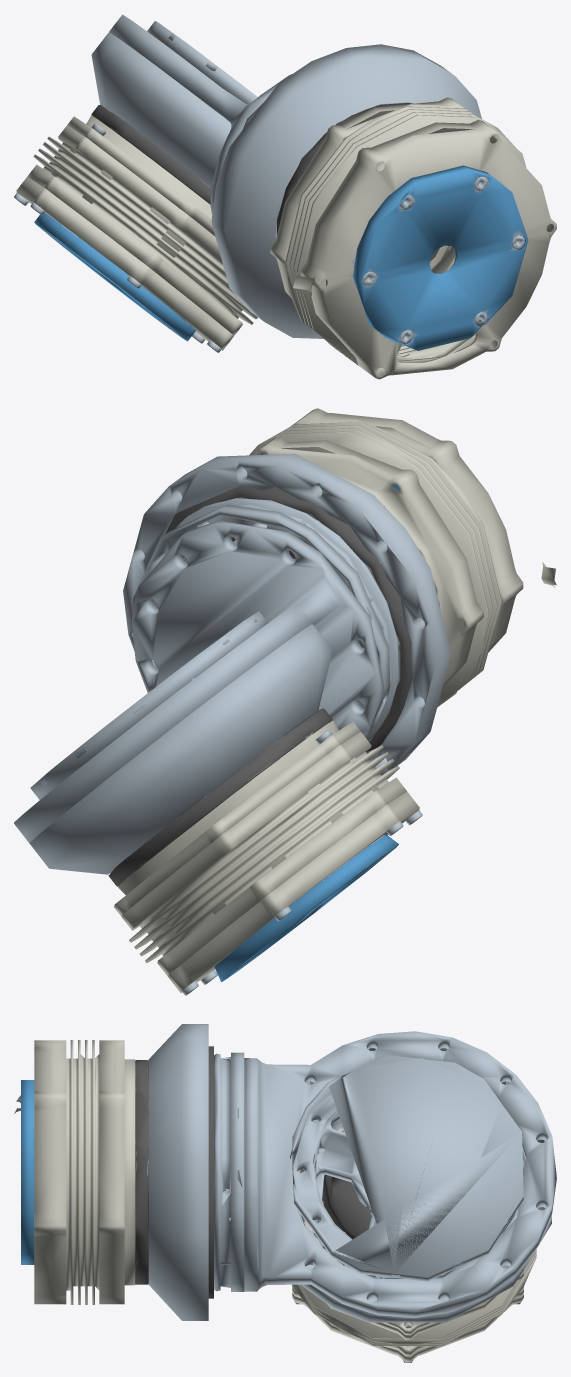
File: legl_hip1_joint.obj
3 renders of one model, top to bottom at view 1: azimuth 30°, elevation 25°; view 2: azimuth 150°, elevation 25°; view 3: azimuth 270°, elevation 25°, orthographic. The views are drawn at different scales.
Size of the model in its own units: 0.1431 by 0.1431 by 0.2041.
1 material, 1 textured.
